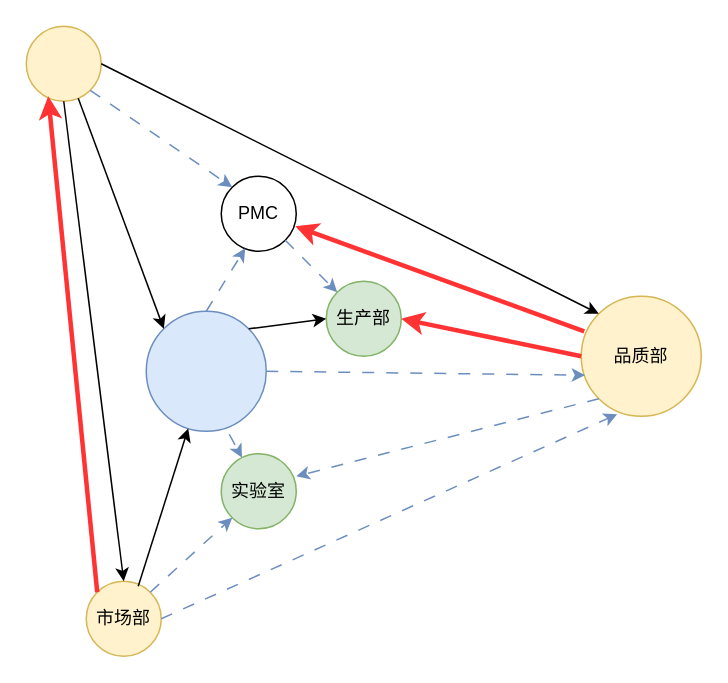
Image size: 728x683. Some labels were removed from this diagram. The shapes that lost their labels are listed below. From the top down, each one's centre as x and y in pixels, then its label:
At (x=63, y=63): "销售部".
At (x=205, y=370): "技术部".
